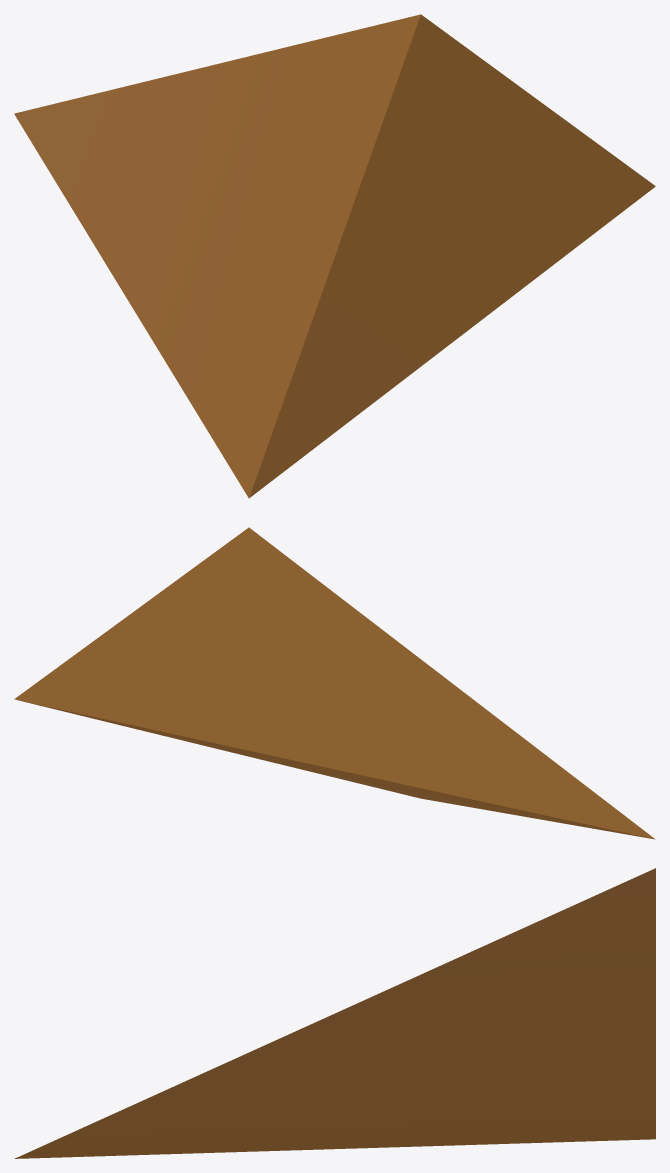
The model's file is slope.corner.inner.gltf.
3 views of the same model, one above another, from view 1: azimuth 30°, elevation 25°; view 2: azimuth 150°, elevation 25°; view 3: azimuth 270°, elevation 25° (orthographic). The views are drawn at different scales.
Parts seen in each view (by area): view 1: slope.corner.inner; view 2: slope.corner.inner; view 3: slope.corner.inner.
Part boxes in pixels (x1,y1,x2,y2): slope.corner.inner: [14, 14, 655, 498]; slope.corner.inner: [14, 527, 655, 839]; slope.corner.inner: [14, 868, 655, 1158].
Size of the model in its own units: 4 by 2 by 4.
